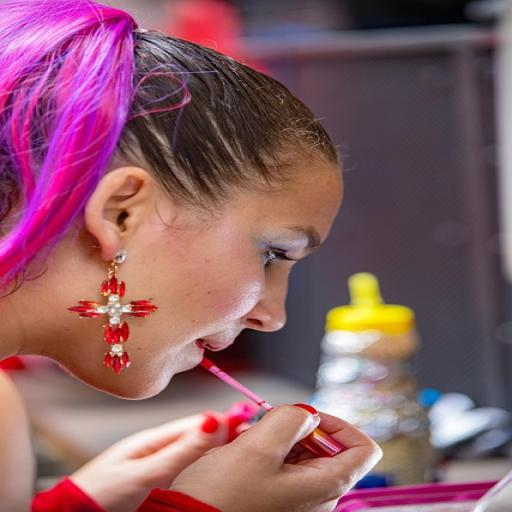lipstick: (201, 358, 272, 410)
